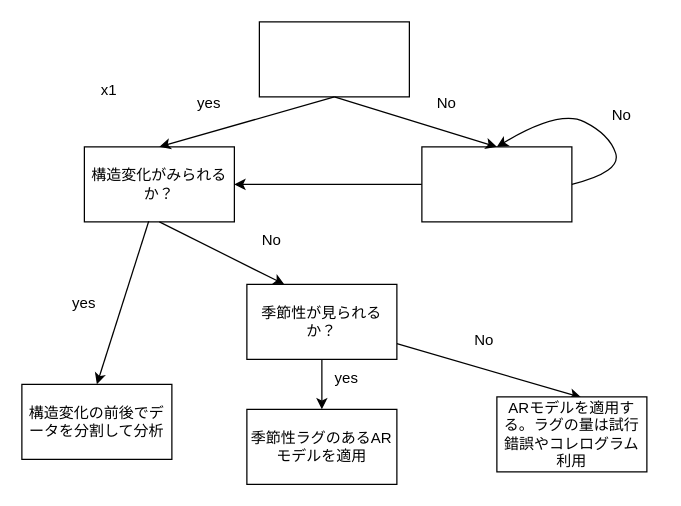
Image size: 681x506. Some labels were removed from this diagram. Here are the shapes that lost their labels. From the top down, the centre of each, then its label:
(x=333, y=59): 使用する変数は定常性を持つか？
(x=496, y=184): 階差（前期との差）で定常性を持つようになるか？
